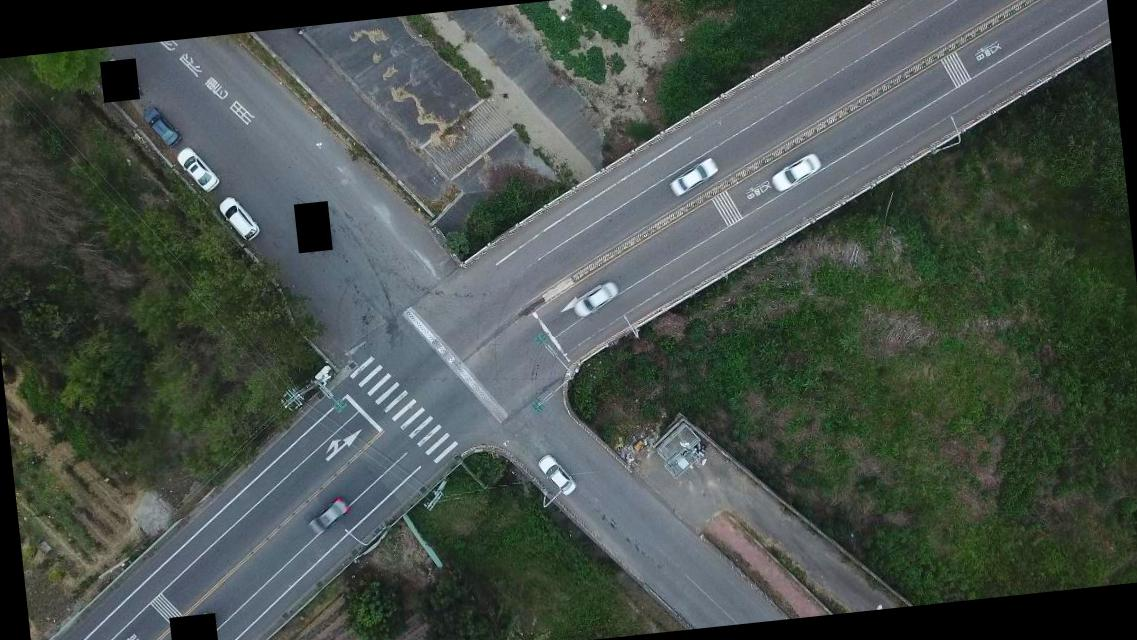vehicle: (768, 150, 827, 196), (666, 156, 721, 200), (177, 146, 222, 196), (216, 195, 260, 244), (534, 452, 578, 498), (570, 282, 620, 318), (142, 103, 180, 149), (306, 496, 350, 533)
